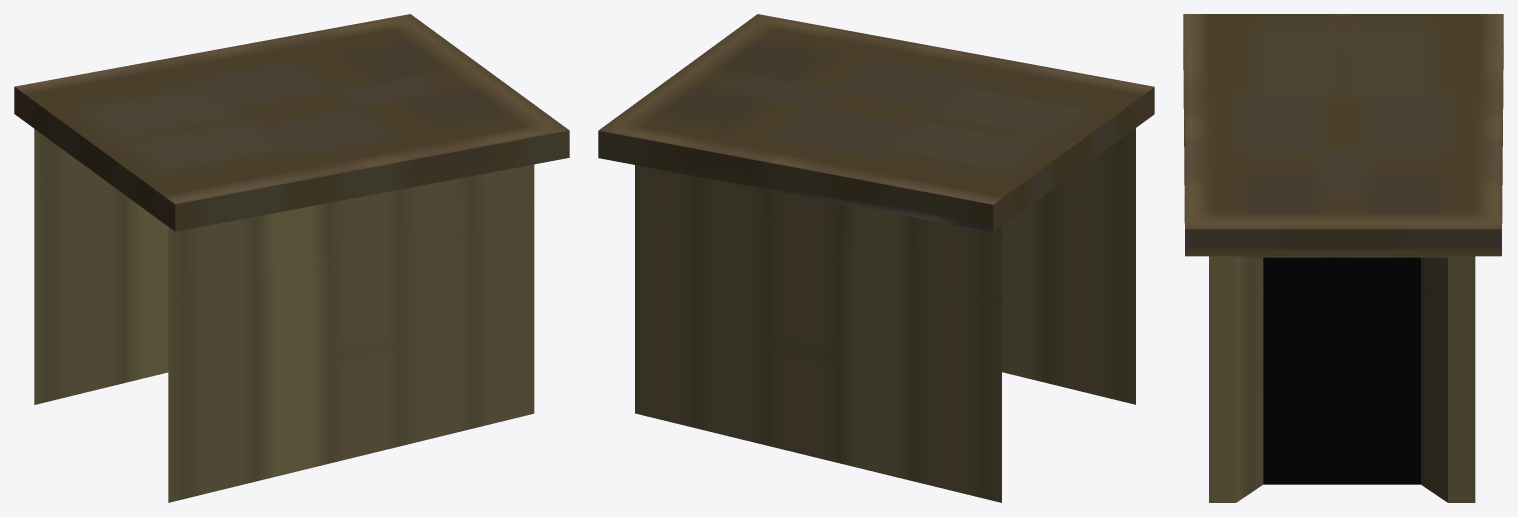
File: roof_window_v6a005.fbx
The picture shows the model from 3 angles, left to right: view 1: azimuth 30°, elevation 25°; view 2: azimuth 150°, elevation 25°; view 3: azimuth 270°, elevation 25°; orthographic projection.
Parts seen in each view (by area): view 1: roof_window_v6a005; view 2: roof_window_v6a005; view 3: roof_window_v6a005.
Part boxes in pixels (x1=…): roof_window_v6a005: x1=14, y1=14, x2=569, y2=502; roof_window_v6a005: x1=598, y1=14, x2=1154, y2=502; roof_window_v6a005: x1=1183, y1=14, x2=1503, y2=502.
Bounding box in the file's own units: 209 × 156 × 147.
